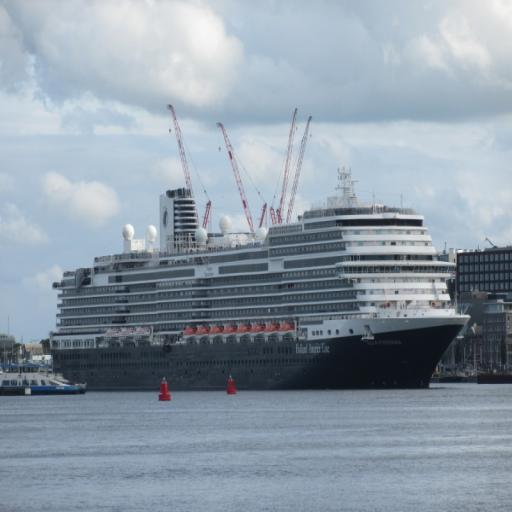cruises: (46, 165, 480, 404)
